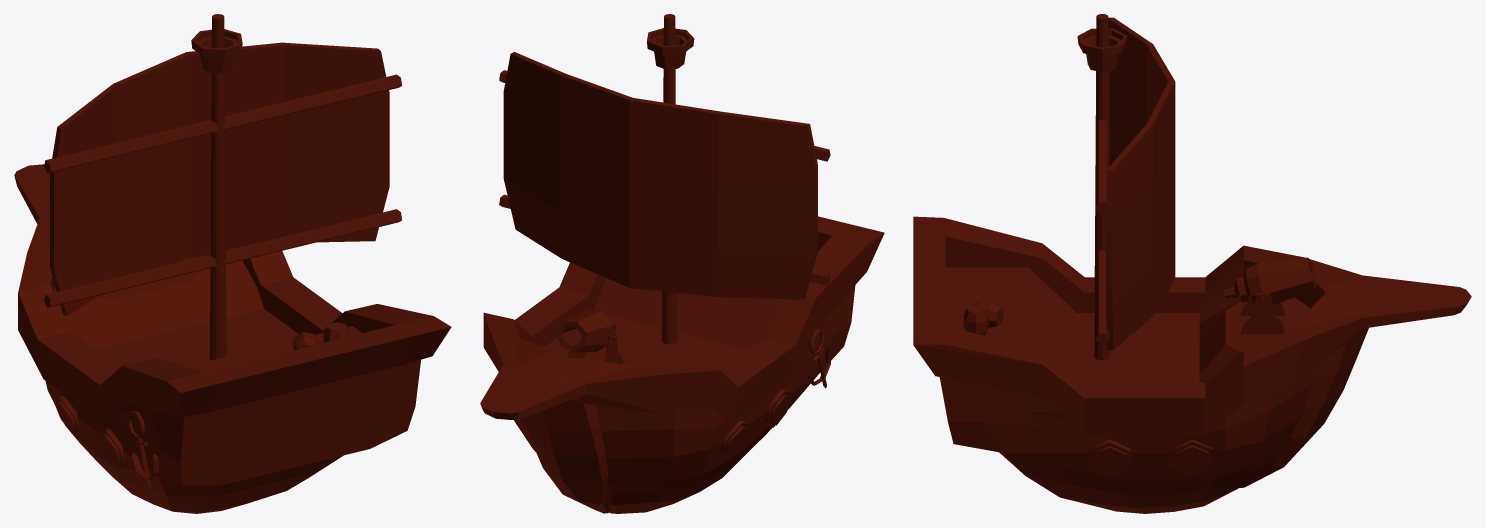
Rendered from ship_7.fbx.
3 renders of one model, left to right at view 1: azimuth 30°, elevation 25°; view 2: azimuth 150°, elevation 25°; view 3: azimuth 270°, elevation 25°, orthographic. The views are drawn at different scales.
Parts seen in each view (by area): view 1: Plane003, Box001, Box002, Cylinder003, Cylinder004, Cylinder001, Cylinder002; view 2: Plane003, Box002, Box001, Box003, Cylinder015, Cylinder001, Cylinder002; view 3: Box001, Box002, Plane003, Box003, Cylinder015, Cylinder001, Cylinder002, Cylinder003, Plane005, Cylinder004, Cylinder020, Cylinder021 (+1 smaller).
Boxes of the visible parts, x1=… form: Plane003: x1=50, y1=42, x2=389, y2=316; Box001: x1=45, y1=255, x2=420, y2=513; Box002: x1=14, y1=164, x2=451, y2=424; Cylinder003: x1=44, y1=74, x2=402, y2=173; Cylinder004: x1=44, y1=209, x2=401, y2=307; Cylinder001: x1=210, y1=14, x2=226, y2=360; Cylinder002: x1=191, y1=29, x2=242, y2=73; Plane003: x1=503, y1=52, x2=817, y2=299; Box002: x1=480, y1=216, x2=884, y2=423; Box001: x1=514, y1=278, x2=855, y2=513; Box003: x1=525, y1=399, x2=610, y2=513; Cylinder015: x1=556, y1=310, x2=615, y2=351; Cylinder001: x1=661, y1=14, x2=677, y2=343; Cylinder002: x1=647, y1=28, x2=694, y2=69; Box001: x1=939, y1=267, x2=1317, y2=513; Box002: x1=913, y1=216, x2=1471, y2=435; Plane003: x1=1106, y1=17, x2=1175, y2=350; Box003: x1=1240, y1=327, x2=1368, y2=487; Cylinder015: x1=1224, y1=257, x2=1316, y2=305; Cylinder001: x1=1094, y1=14, x2=1110, y2=360; Cylinder002: x1=1077, y1=28, x2=1127, y2=72; Cylinder003: x1=1096, y1=71, x2=1109, y2=213; Plane005: x1=1240, y1=293, x2=1284, y2=334; Cylinder004: x1=1096, y1=250, x2=1109, y2=344; Cylinder020: x1=1093, y1=446, x2=1126, y2=476; Cylinder021: x1=1174, y1=445, x2=1208, y2=475.
Bounding box in the file's own units: 19.35 × 26.27 × 27.45.
